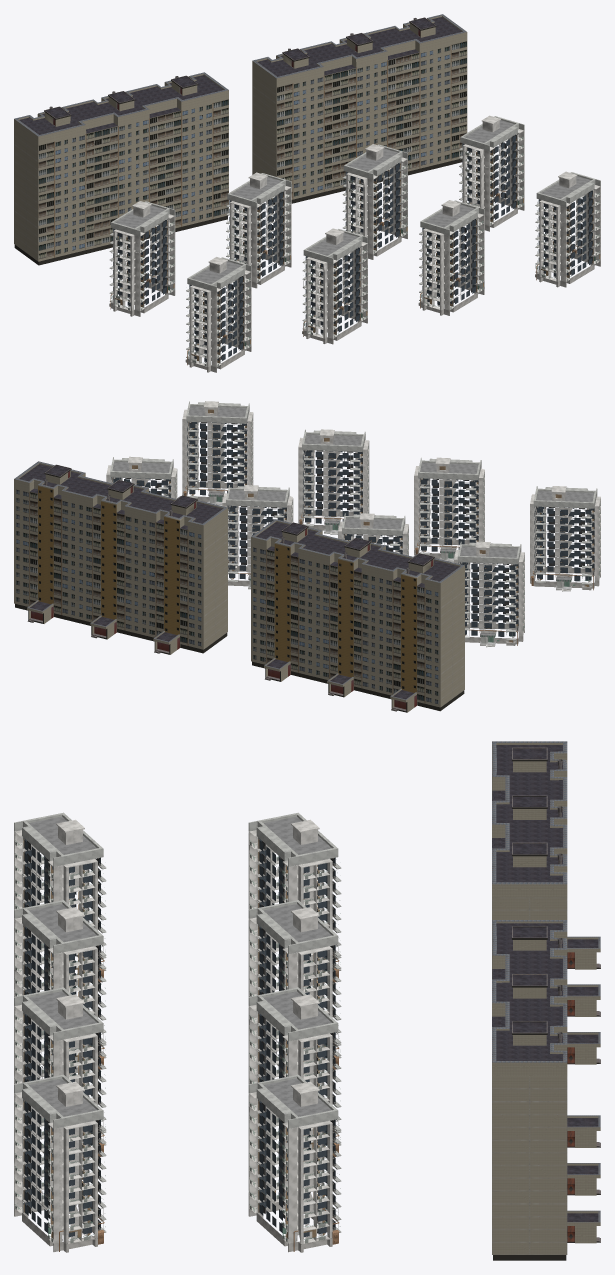
File: pripyat_blocks_lod.obj
3 views of the same model, one above another, from view 1: azimuth 30°, elevation 25°; view 2: azimuth 150°, elevation 25°; view 3: azimuth 270°, elevation 25° (orthographic). The views are drawn at different scales.
Visible parts, largest first — view 1: Tower4_concrate2_concrate2, Tower0_concrate2_concrate2, Tower7_concrate2_concrate2, Tower6_concrate2_concrate2, Tower5_concrate2_concrate2, Tower3_concrate2_concrate2, Tower1_concrate2_concrate2, Tower2_concrate2_concrate2, Slab0_-1_None_dombokwall_png_None_dombokwall_png, Slab1_-1_None_dombokwall_png_None_dombokwall_png, Tower7_glass_glass, Tower5_glass_glass (+79 smaller); view 2: Slab0_-1_None_dombokwall_png_None_dombokwall_png, Slab1_-1_None_dombokwall_png_None_dombokwall_png, Tower6_concrate2_concrate2, Tower7_concrate2_concrate2, Tower4_glass_glass, Tower4_concrate2_concrate2, Tower5_concrate2_concrate2, Tower6_glass_glass, Tower7_glass_glass, Tower5_glass_glass, Tower0_glass_glass, Slab0_3_None_podezdwall_png_None_podezdwall_png (+97 smaller); view 3: Slab1_4_None_dombokwall_png_None_dombokwall_png, Tower3_concrate2_concrate2, Tower7_concrate2_concrate2, Tower0_concrate2_concrate2, Tower2_concrate2_concrate2, Tower1_concrate2_concrate2, Tower4_concrate2_concrate2, Tower6_concrate2_concrate2, Tower5_concrate2_concrate2, Tower3_glass_glass, Tower7_glass_glass, Slab0_3_None_krisha_png_None_krisha_png (+42 smaller).
Boxes of the visible parts, x1,y1,x2,y2 form: Tower4_concrate2_concrate2: (189, 257, 251, 367); Tower0_concrate2_concrate2: (113, 201, 175, 311); Tower7_concrate2_concrate2: (538, 171, 600, 281); Tower6_concrate2_concrate2: (422, 200, 484, 310); Tower5_concrate2_concrate2: (305, 228, 367, 338); Tower3_concrate2_concrate2: (462, 115, 524, 225); Tower1_concrate2_concrate2: (229, 172, 291, 282); Tower2_concrate2_concrate2: (346, 144, 407, 254); Slab0_-1_None_dombokwall_png_None_dombokwall_png: (14, 119, 38, 261); Slab1_-1_None_dombokwall_png_None_dombokwall_png: (252, 61, 276, 199); Tower7_glass_glass: (538, 190, 594, 276); Tower5_glass_glass: (305, 247, 361, 333); Slab0_-1_None_dombokwall_png_None_dombokwall_png: (440, 565, 464, 706); Slab1_-1_None_dombokwall_png_None_dombokwall_png: (203, 507, 227, 649); Tower6_concrate2_concrate2: (298, 429, 369, 523); Tower7_concrate2_concrate2: (182, 401, 253, 495); Tower4_glass_glass: (534, 506, 594, 581); Tower4_concrate2_concrate2: (530, 486, 600, 582); Tower5_concrate2_concrate2: (414, 457, 484, 552); Tower6_glass_glass: (303, 450, 362, 523); Tower7_glass_glass: (187, 421, 247, 495); Tower5_glass_glass: (419, 478, 478, 551); Tower0_glass_glass: (458, 562, 518, 636); Slab0_3_None_podezdwall_png_None_podezdwall_png: (274, 544, 290, 661); Slab1_4_None_dombokwall_png_None_dombokwall_png: (492, 1062, 567, 1254); Tower3_concrate2_concrate2: (248, 1081, 335, 1243); Tower7_concrate2_concrate2: (14, 1081, 101, 1244); Tower0_concrate2_concrate2: (248, 819, 335, 980); Tower2_concrate2_concrate2: (248, 994, 335, 1149); Tower1_concrate2_concrate2: (248, 907, 335, 1060); Tower4_concrate2_concrate2: (14, 819, 101, 979); Tower6_concrate2_concrate2: (14, 994, 101, 1147); Tower5_concrate2_concrate2: (14, 907, 101, 1067); Tower3_glass_glass: (258, 1100, 335, 1236); Tower7_glass_glass: (23, 1100, 100, 1237); Slab0_3_None_krisha_png_None_krisha_png: (496, 843, 598, 1043).
Bounding box in the file's own units: 162 × 49.31 × 125.
Materials: 37 (37 with a texture image).
